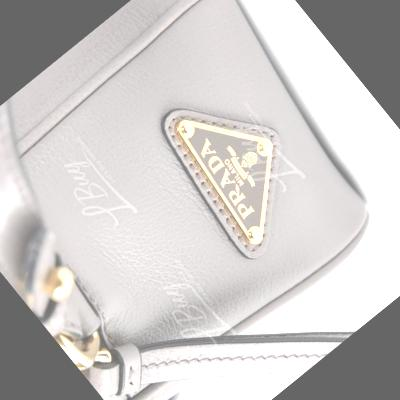PRADA: (161, 82, 317, 248)
